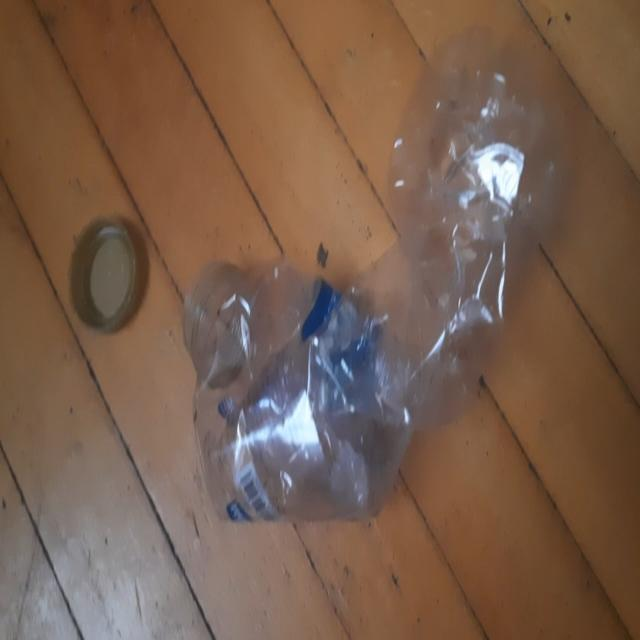Plastic: (197, 51, 532, 524), (68, 217, 149, 336)
